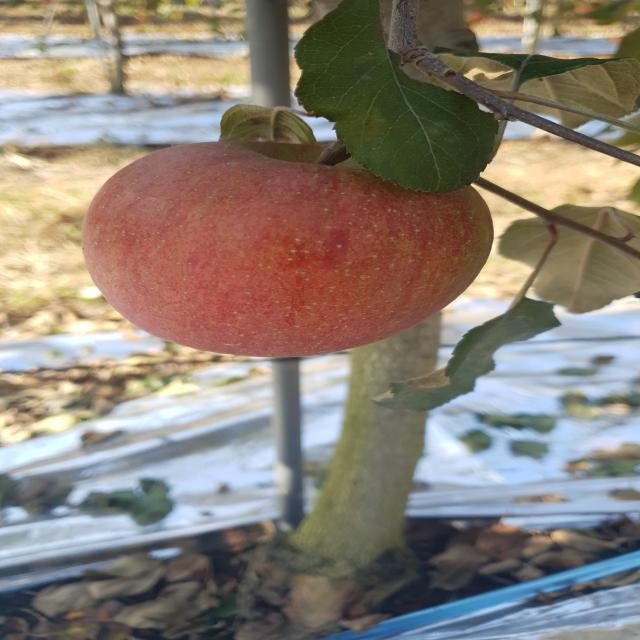fresh: (67, 135, 514, 369)
